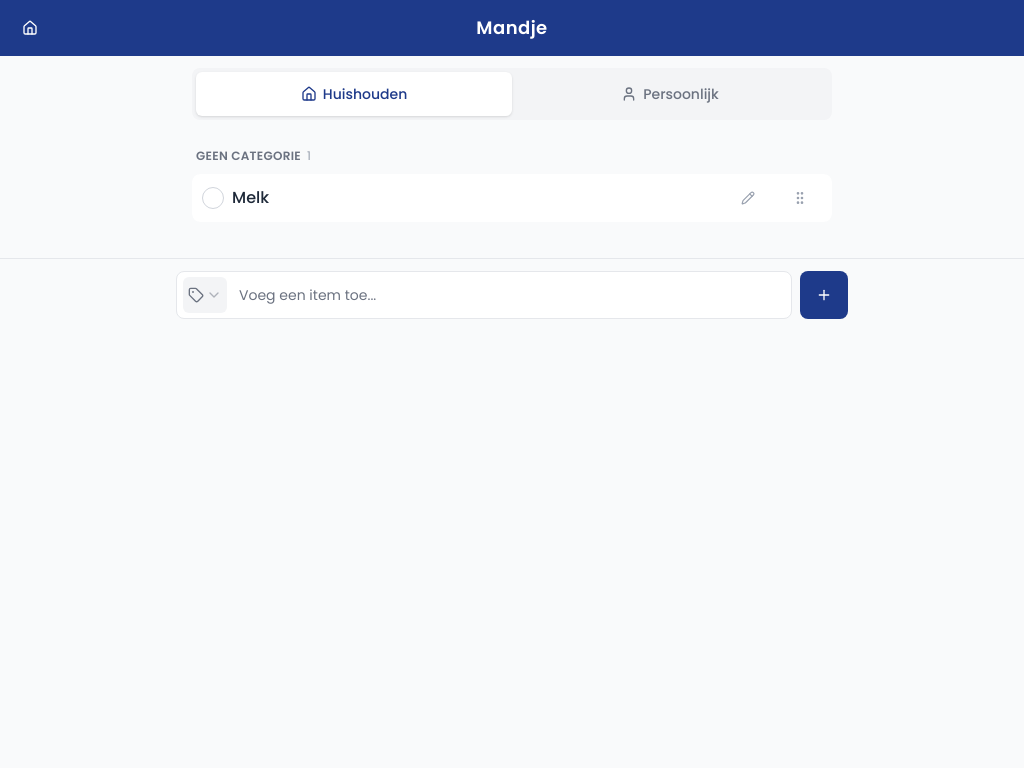
Test case: HouseholdClientPage › renaming an item › keeps the old name when the server refuses the new one
Click the button named "melk hernoemen" at (748, 198), box 726,176 -> 770,220
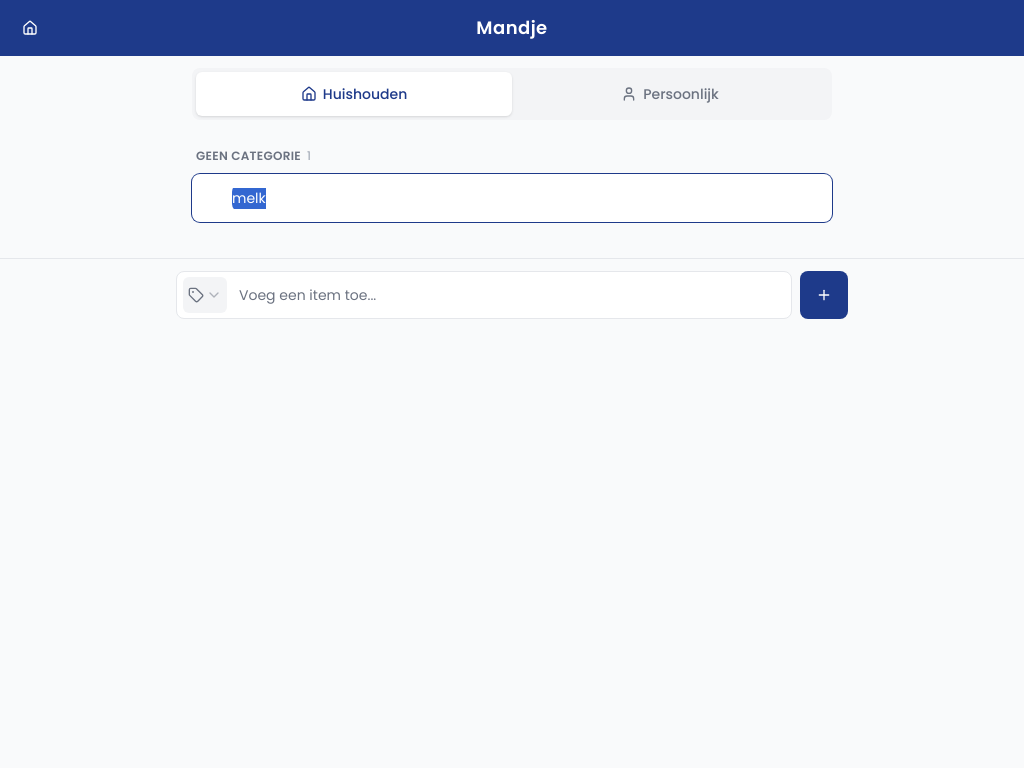
Replace the text in the field showing "melk" with "karnemelk" at (527, 198), box 232,184 -> 822,212
Then press Enter
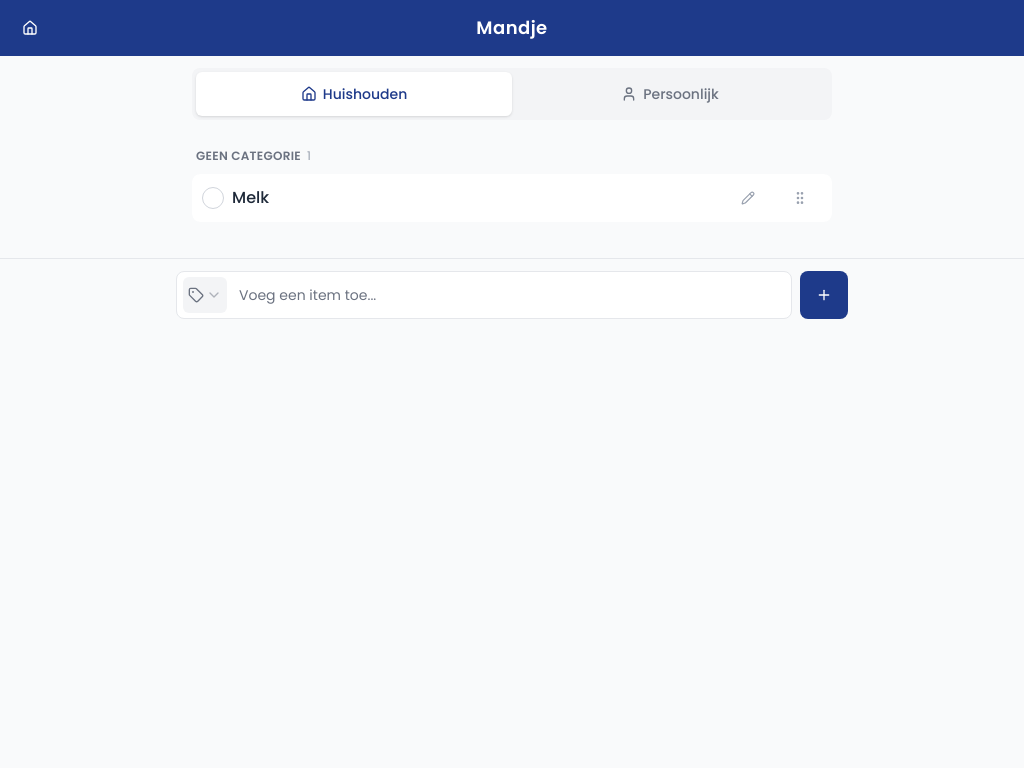
Check: the text "melk" is shown, box 232,186 -> 269,209
